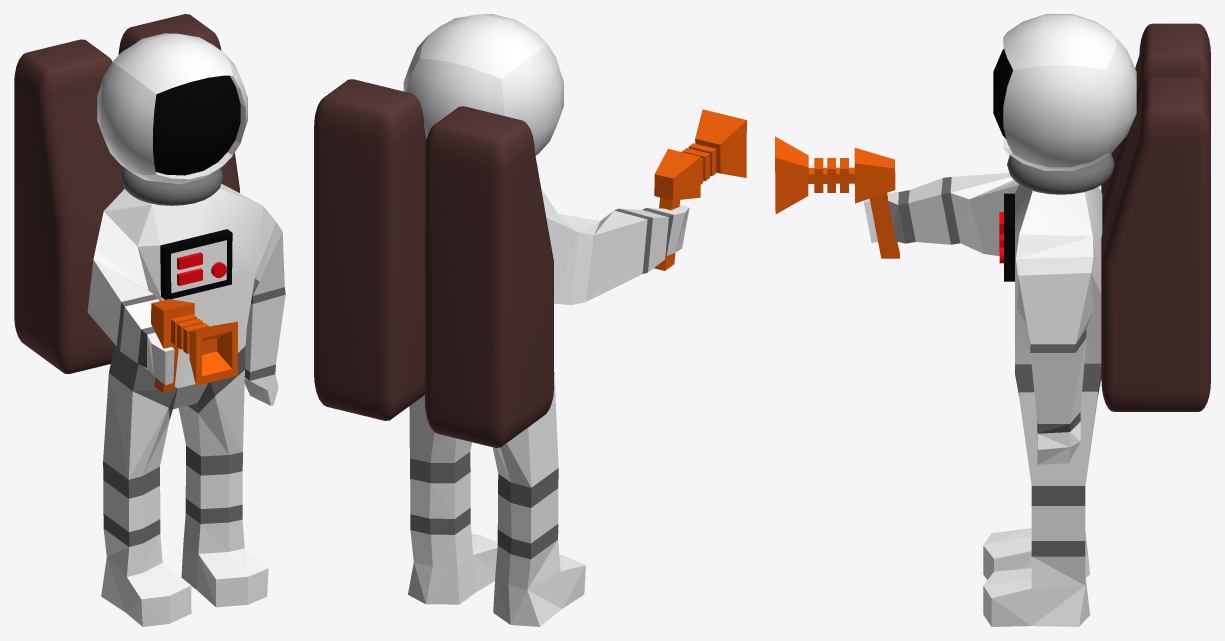
Rendered from astronauta.FBX.
The picture shows the model from 3 angles, left to right: view 1: azimuth 30°, elevation 25°; view 2: azimuth 150°, elevation 25°; view 3: azimuth 270°, elevation 25°; orthographic projection. The views are drawn at different scales.
Parts seen in each view (by area): view 1: atronauta; view 2: atronauta; view 3: atronauta.
Boxes of the visible parts, x1,y1,x2,y2 form: atronauta: [14, 14, 285, 626]; atronauta: [314, 14, 746, 626]; atronauta: [775, 14, 1210, 626].
Size of the model in its own units: 49.53 by 122 by 84.47.
